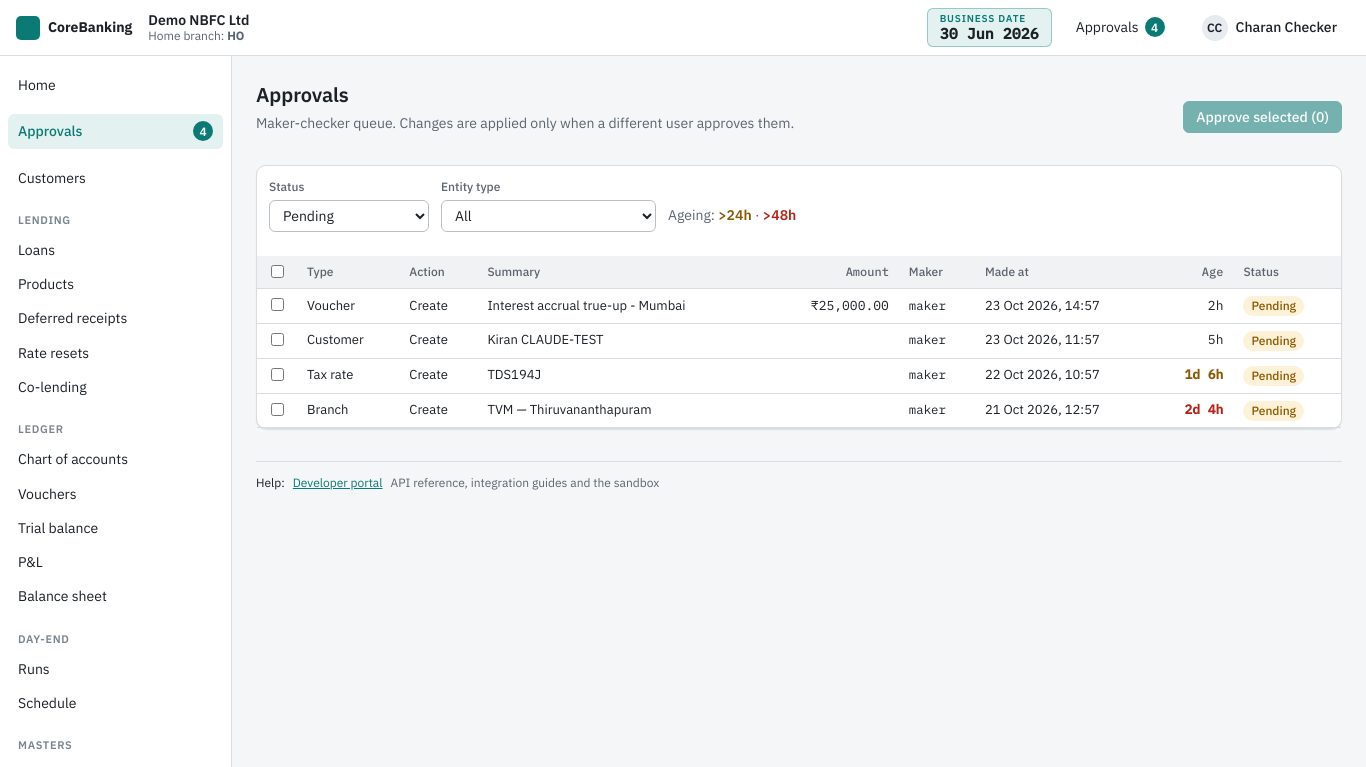
Test: approvals queue › bulk-approves selected requests
Click the checkbox named "Select all" at (278, 271), box [271,265,284,278]
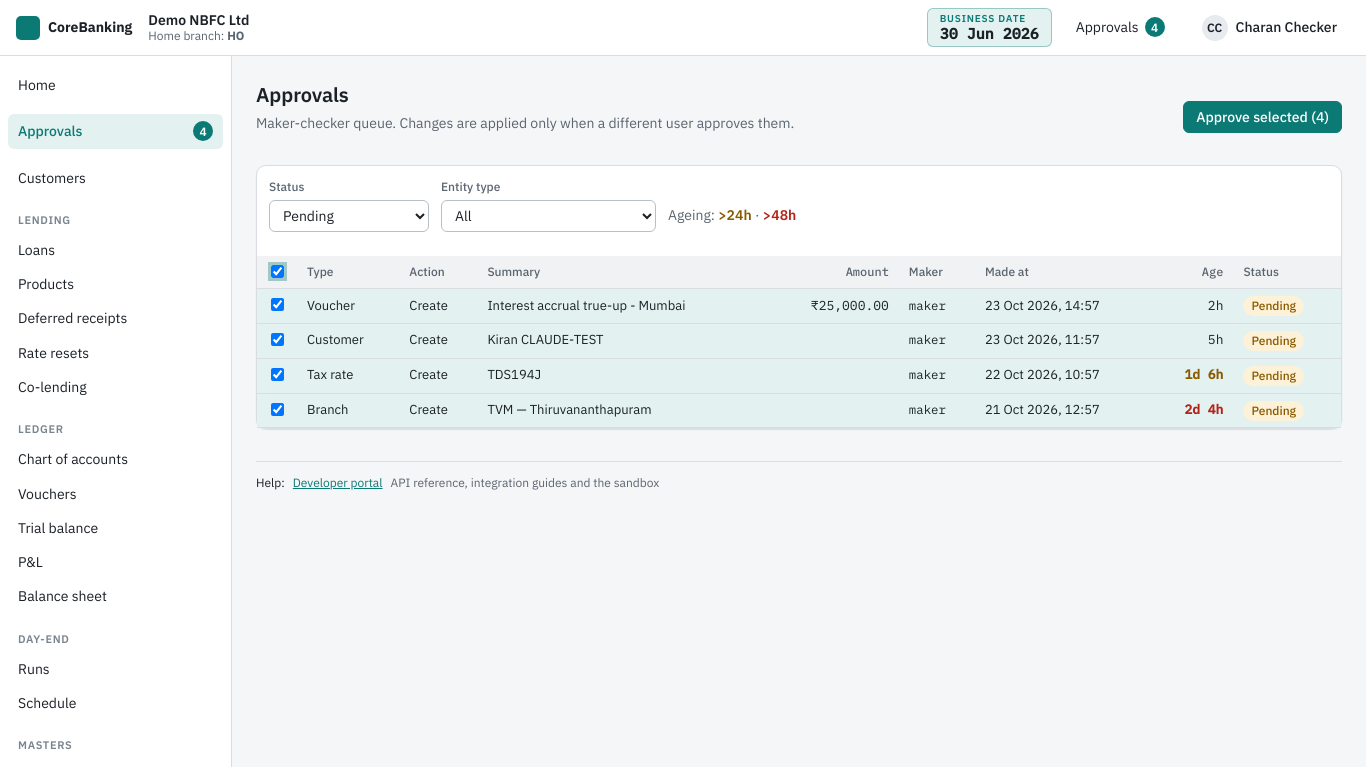
Click the button "Approve selected (4)" at (1263, 117), box [1183,101,1342,133]
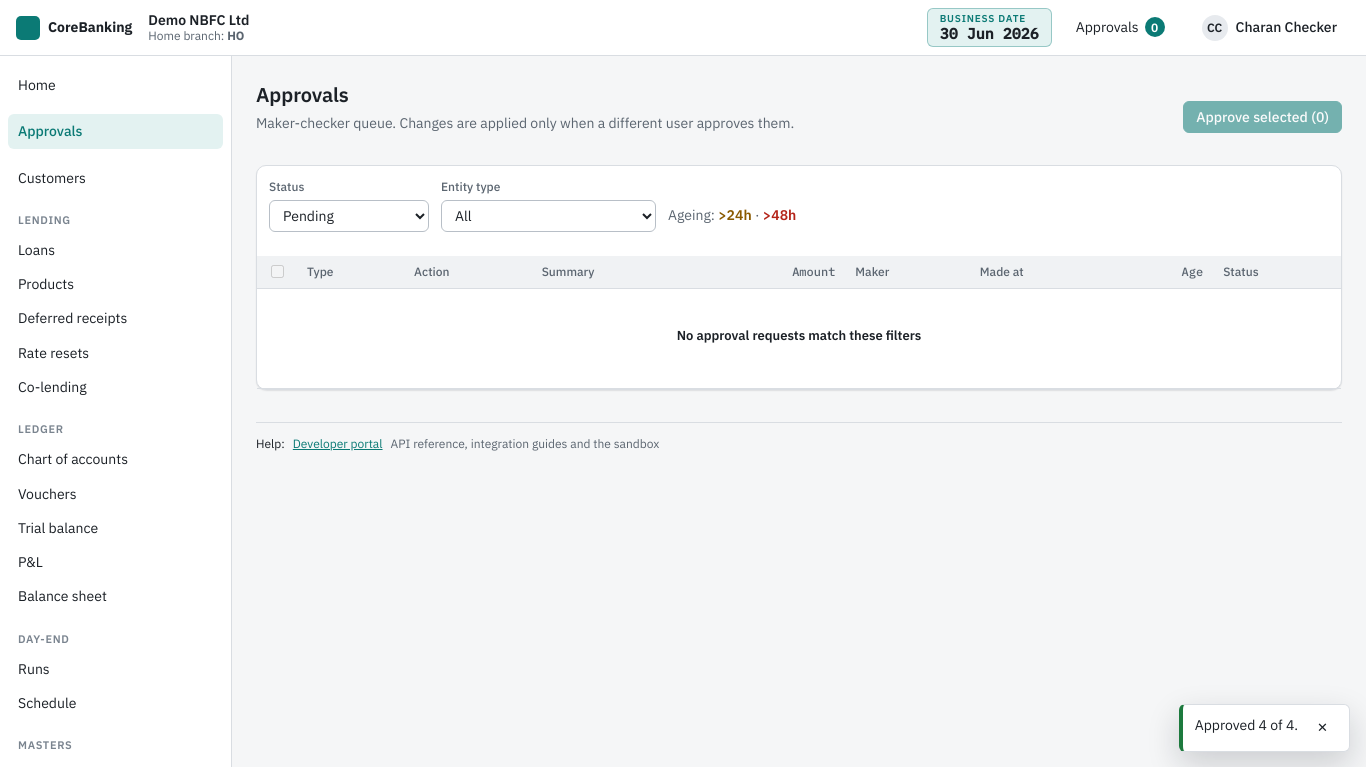
Expected: the text "Approved 4 of 4." is shown, [1195,715,1298,735]
Expected: the text "No approval requests match these filters" is shown, [677,327,921,344]
